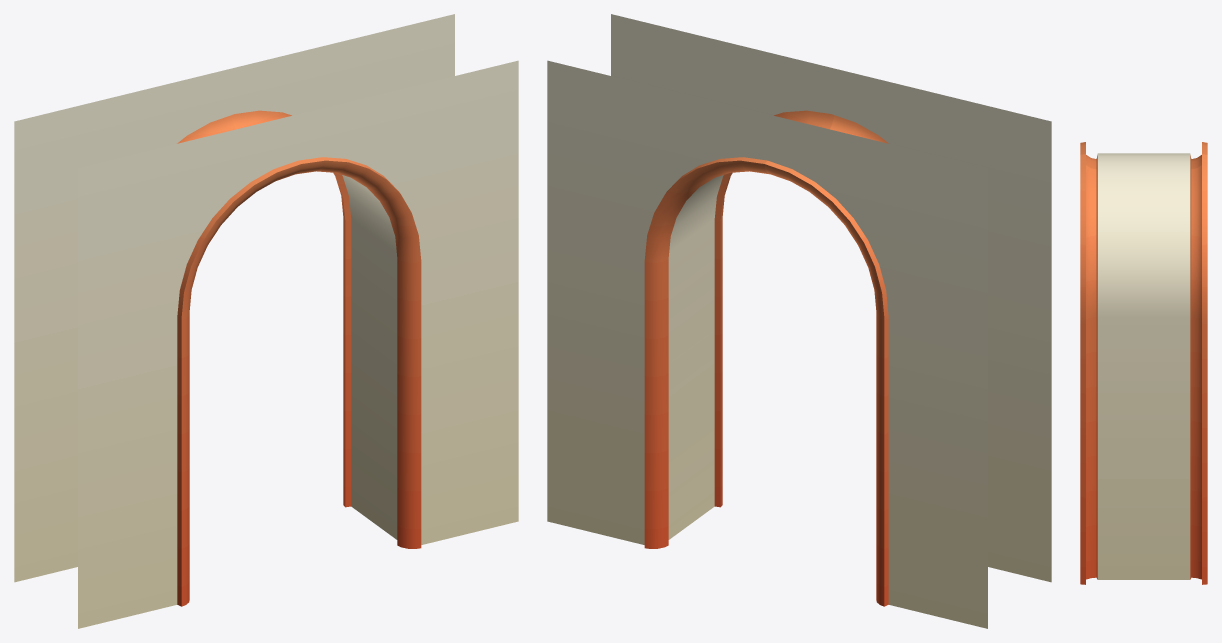
Rendered from sm_futuristic_doorway_2x3.fbx.
3 views of the same model, side by side, from view 1: azimuth 30°, elevation 25°; view 2: azimuth 150°, elevation 25°; view 3: azimuth 270°, elevation 25° (orthographic). The views are drawn at different scales.
Parts seen in each view (by area): view 1: sm_futuristic_doorway_2x3; view 2: sm_futuristic_doorway_2x3; view 3: sm_futuristic_doorway_2x3.
Boxes of the visible parts, x1,y1,x2,y2 form: sm_futuristic_doorway_2x3: [14, 14, 518, 628]; sm_futuristic_doorway_2x3: [547, 14, 1051, 628]; sm_futuristic_doorway_2x3: [1080, 142, 1207, 584].
Bounding box in the file's own units: 400 × 110 × 400.
